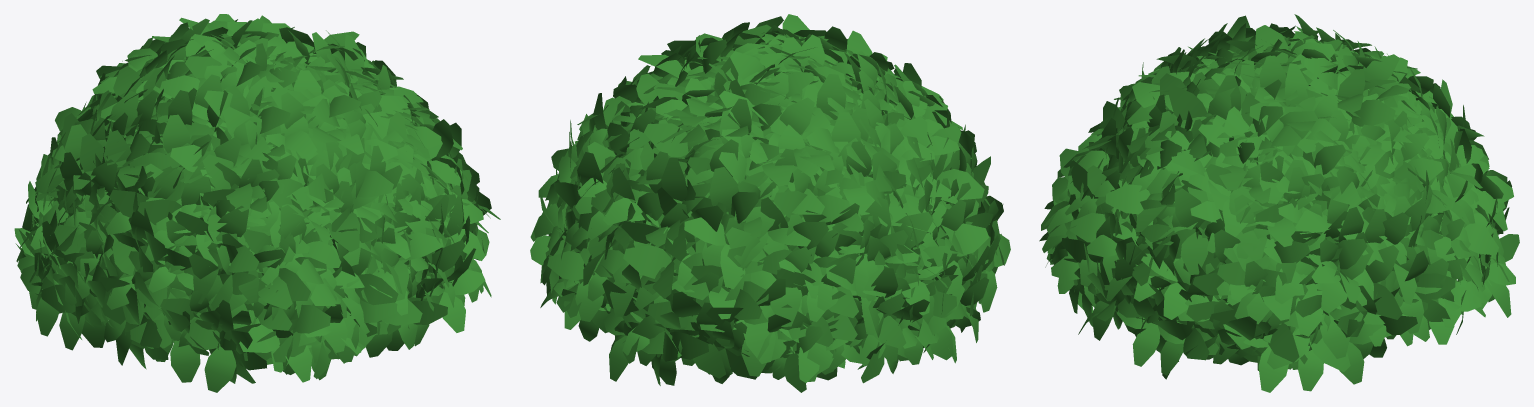
Rendered from bush.fbx.
3 renders of one model, left to right at view 1: azimuth 30°, elevation 25°; view 2: azimuth 150°, elevation 25°; view 3: azimuth 270°, elevation 25°, orthographic. The views are drawn at different scales.
Parts seen in each view (by area): view 1: bush; view 2: bush; view 3: bush.
Boxes of the visible parts, x1=… form: bush: x1=14, y1=14, x2=500, y2=392; bush: x1=530, y1=14, x2=1010, y2=392; bush: x1=1039, y1=14, x2=1519, y2=392.
Size of the model in its own units: 2.18 by 2.19 by 1.32.
